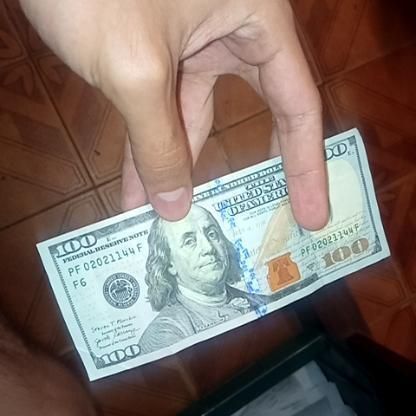one_hundred-front: (34, 128, 398, 383)
